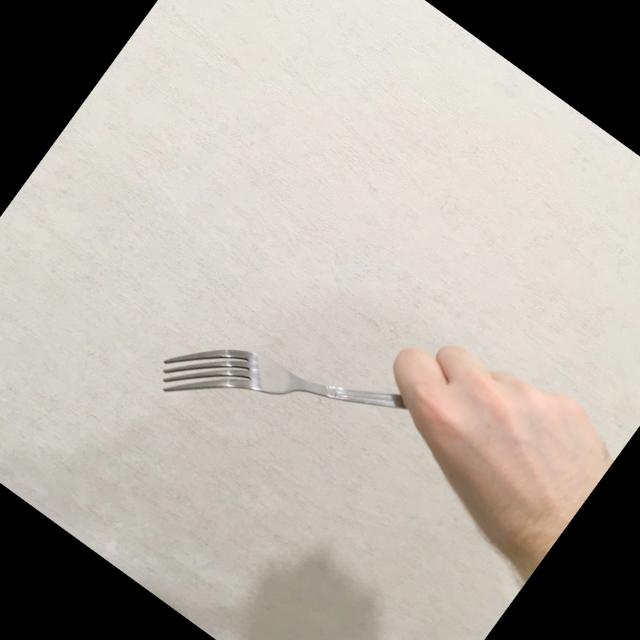fork: (146, 252, 438, 524)
